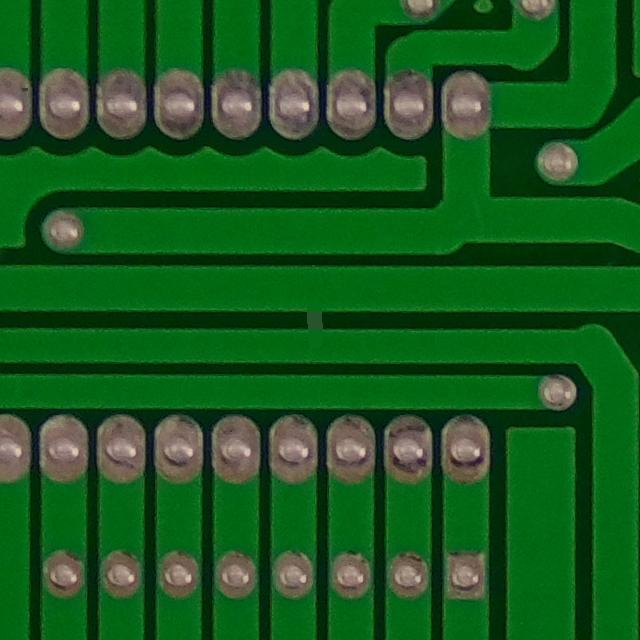short: (271, 270, 369, 370)
